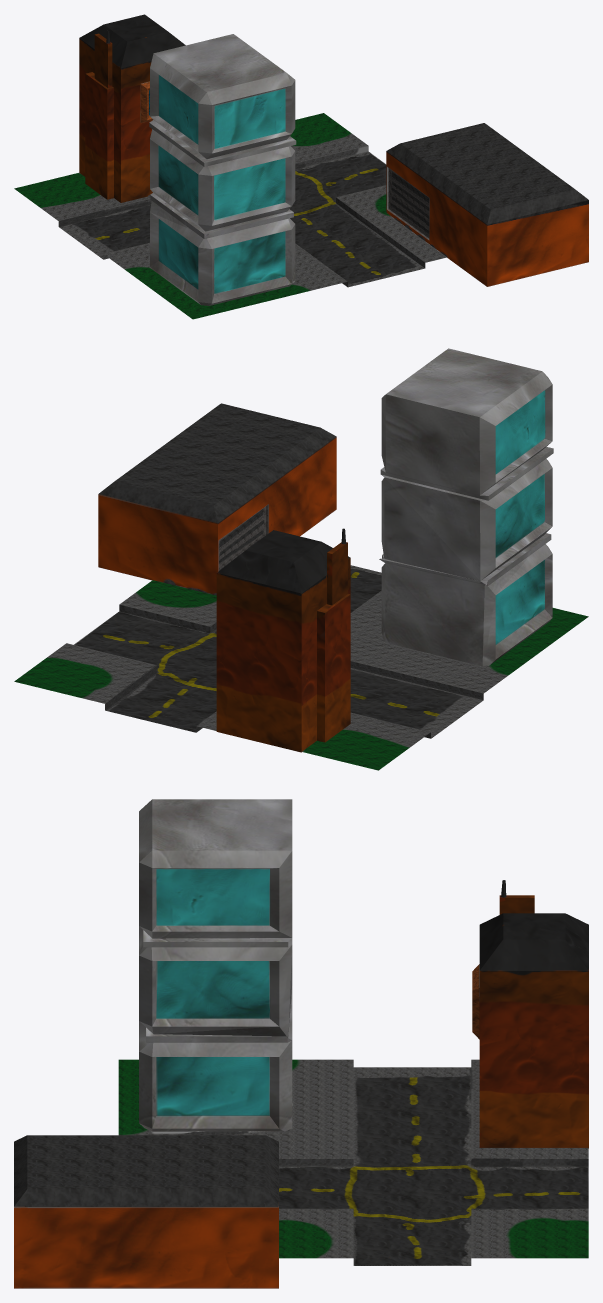
The model's file is house[0].exterior.obj.
3 views of the same model, one above another, from view 1: azimuth 30°, elevation 25°; view 2: azimuth 150°, elevation 25°; view 3: azimuth 270°, elevation 25° (orthographic). The views are drawn at different scales.
Visible parts, largest first — view 1: Office_Cube.003, Road_Plane.001, Storage_Cube.004, House_Cube; view 2: Office_Cube.003, Road_Plane.001, Storage_Cube.004, House_Cube; view 3: Road_Plane.001, Office_Cube.003, Storage_Cube.004, House_Cube.
Boxes of the visible parts, bbox=[...] form: Office_Cube.003: bbox=[148, 34, 296, 305]; Road_Plane.001: bbox=[14, 113, 446, 319]; Storage_Cube.004: bbox=[386, 123, 588, 286]; House_Cube: bbox=[79, 14, 185, 202]; Office_Cube.003: bbox=[379, 348, 553, 666]; Road_Plane.001: bbox=[14, 565, 588, 770]; Storage_Cube.004: bbox=[98, 403, 336, 595]; House_Cube: bbox=[216, 528, 350, 752]; Road_Plane.001: bbox=[118, 1059, 588, 1265]; Office_Cube.003: bbox=[139, 799, 292, 1131]; Storage_Cube.004: bbox=[14, 1135, 278, 1288]; House_Cube: bbox=[472, 880, 588, 1148].
Size of the model in its own units: 18.91 by 11.01 by 20.12.
